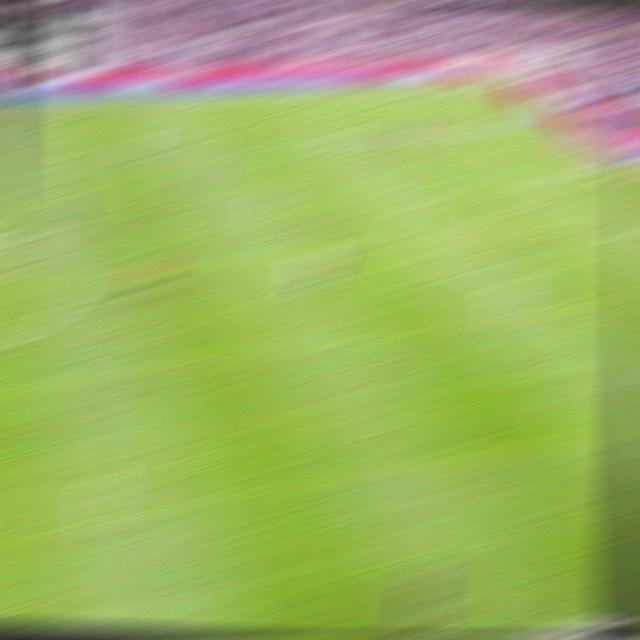bigarea_top_inner: (353, 137, 381, 146)
bigarea_top_outter: (524, 120, 554, 127)
bottom_arc_area_intersection: (503, 272, 535, 285)
corner: (456, 80, 485, 83)
smallarea_top_inner: (535, 172, 563, 177)
top_arc_area_intersection: (411, 189, 442, 199)
